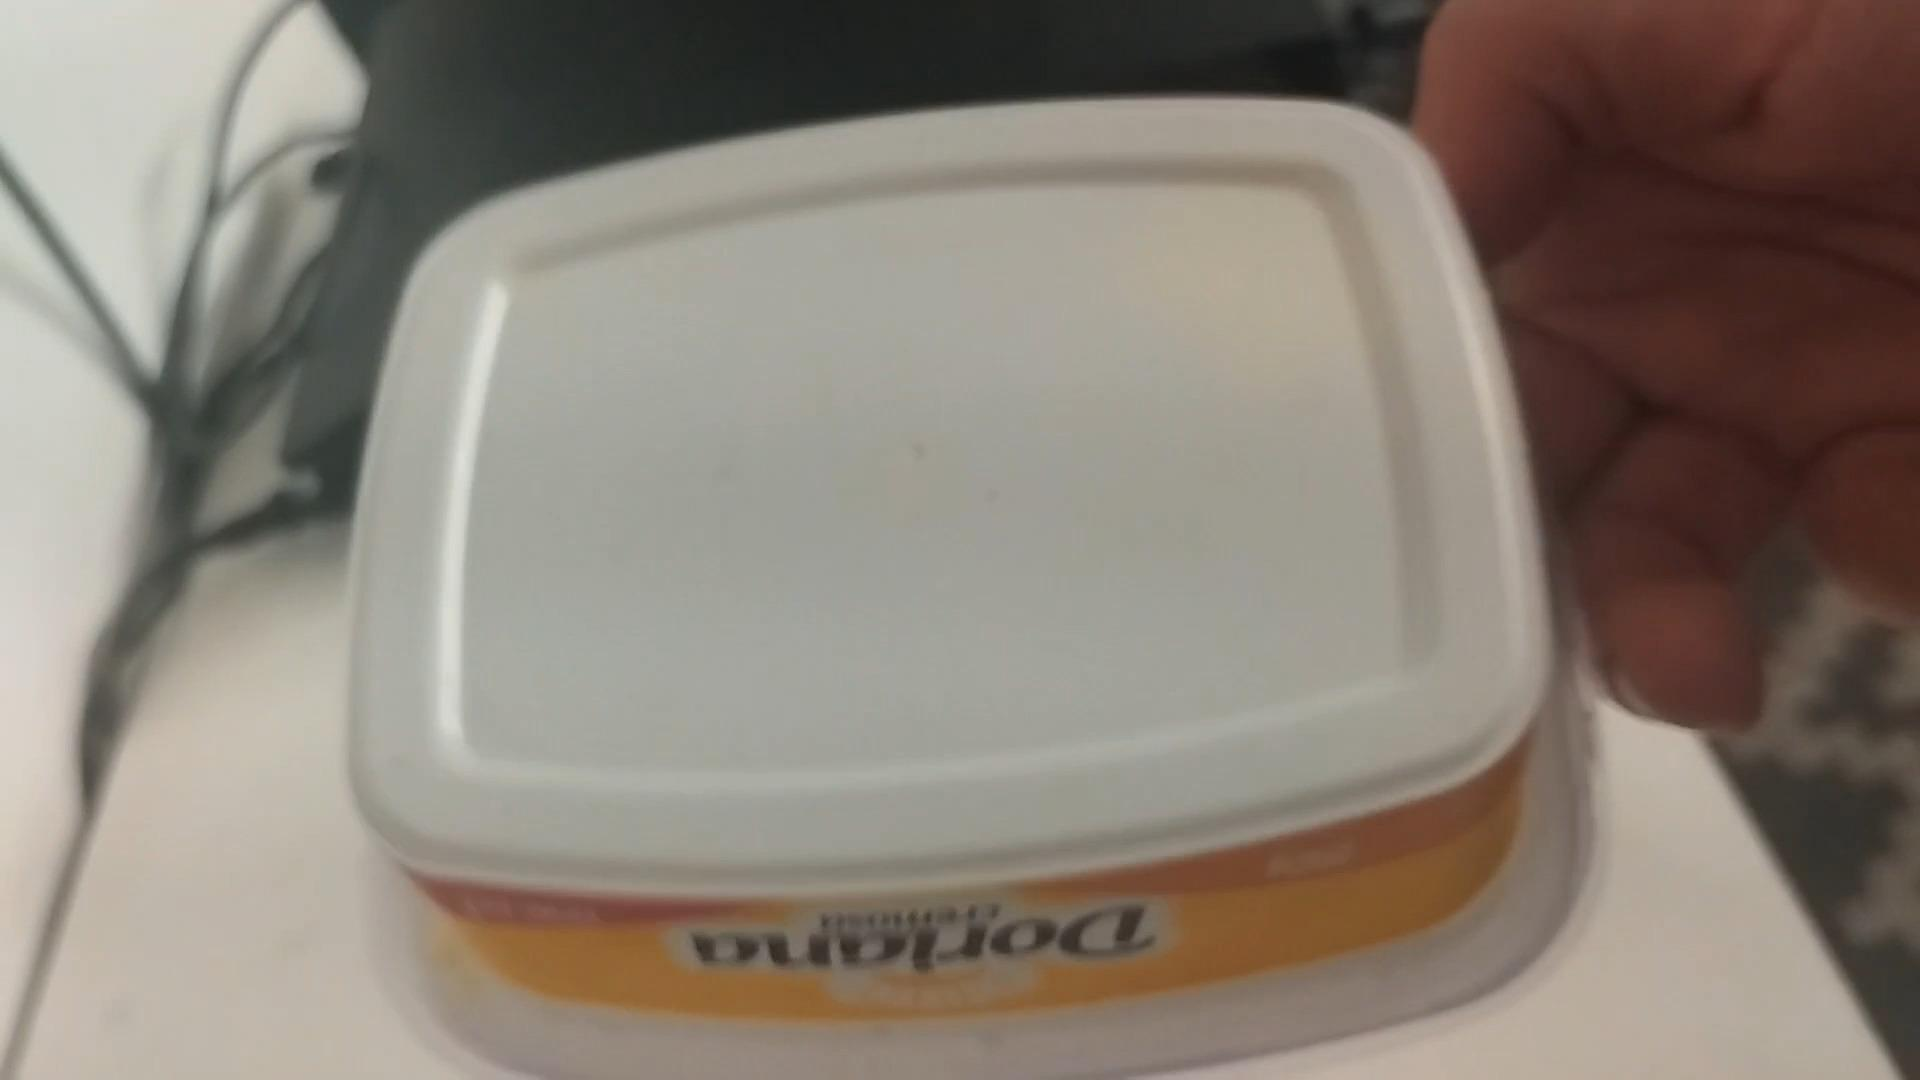butter: (349, 97, 1565, 1075)
